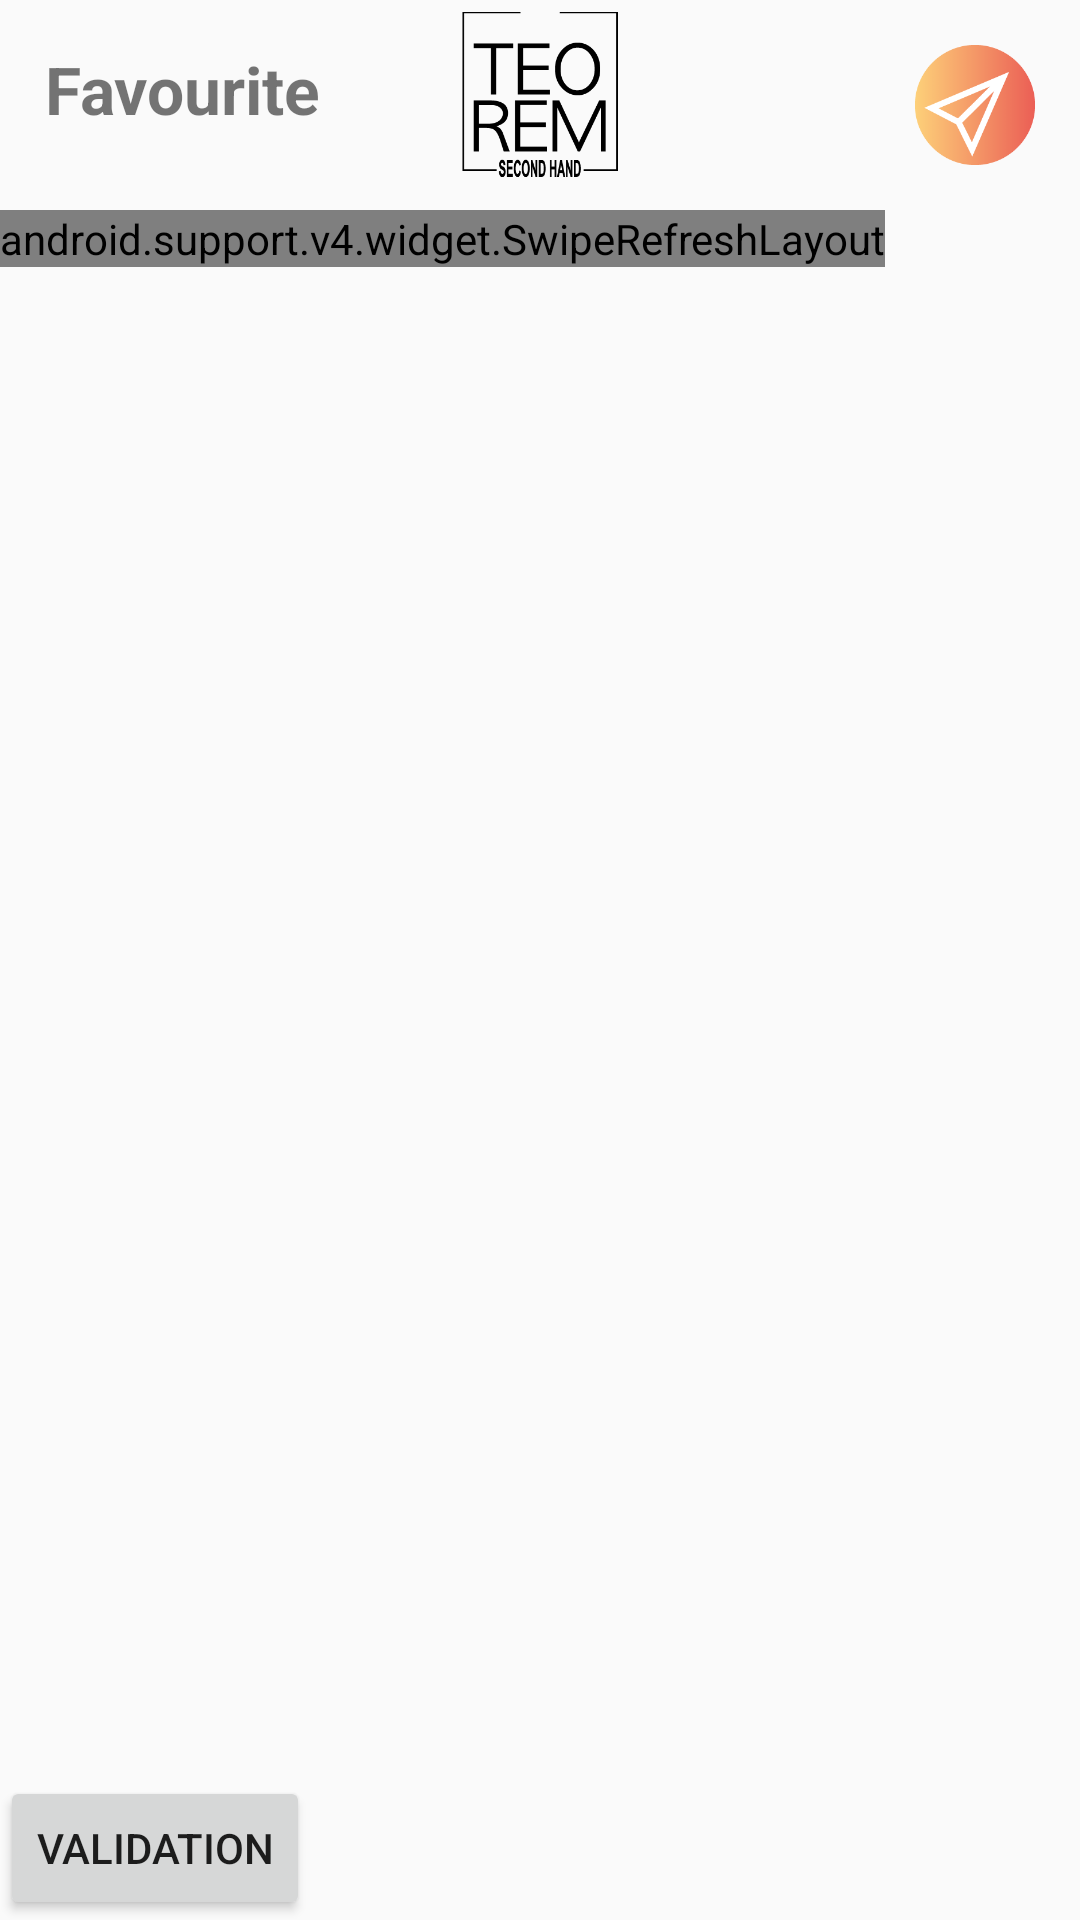

Named icons in this screenshot (1080x1920) and their bounding boxes, (x1, y1, x2, y2):
message: (915, 45, 1035, 165)
